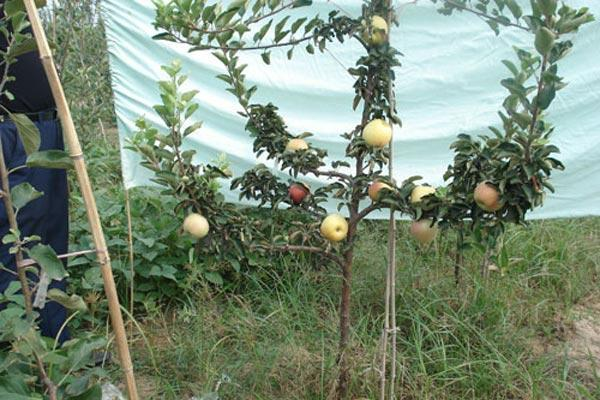apple: (363, 119, 393, 148), (475, 181, 503, 209), (321, 214, 348, 243), (181, 212, 208, 238), (412, 218, 439, 243), (362, 17, 388, 40), (412, 187, 437, 207), (287, 182, 309, 203), (368, 182, 392, 199), (287, 139, 306, 159)
